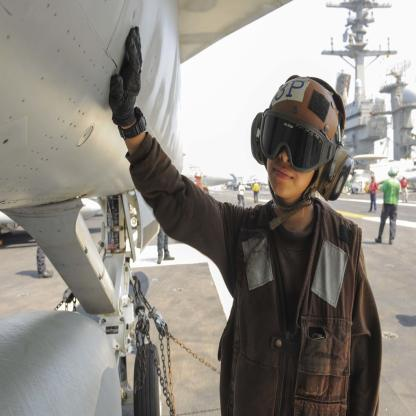Helmet: (253, 72, 353, 219), (389, 164, 399, 179)
